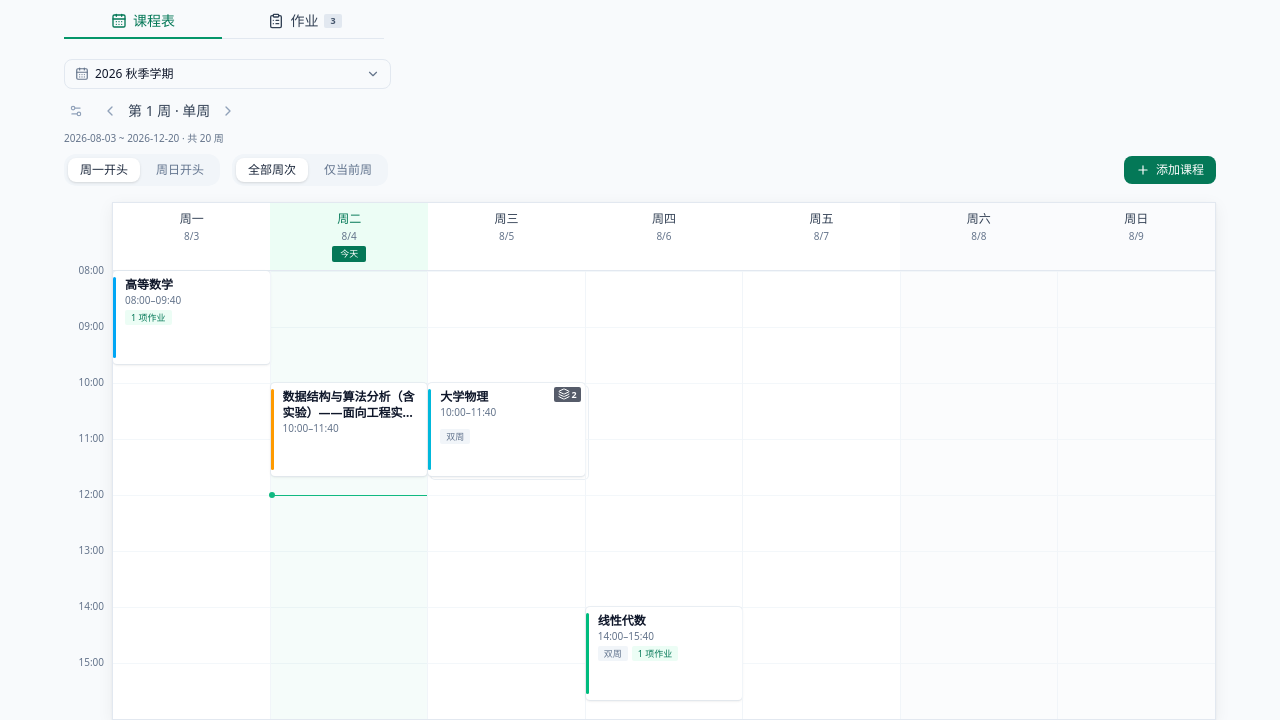
StudyPage › 删除课程后作业保留并变为无课程
The width and height of the screenshot is (1280, 720).
(page scrolled)
Click the button "线性代数 14:00–15:40 双周 1 项作业".
click(664, 653)  # box [586,606,742,700]
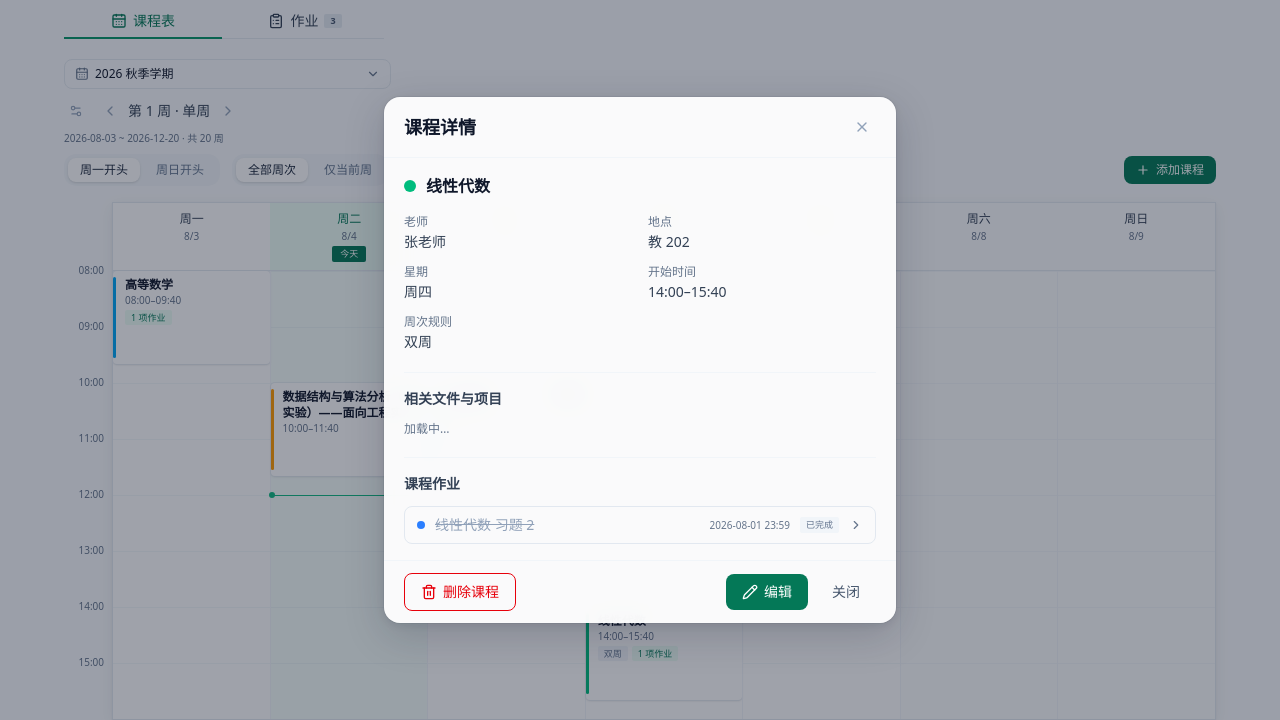
Click the button "删除课程".
click(460, 592)  # box [404,573,516,611]
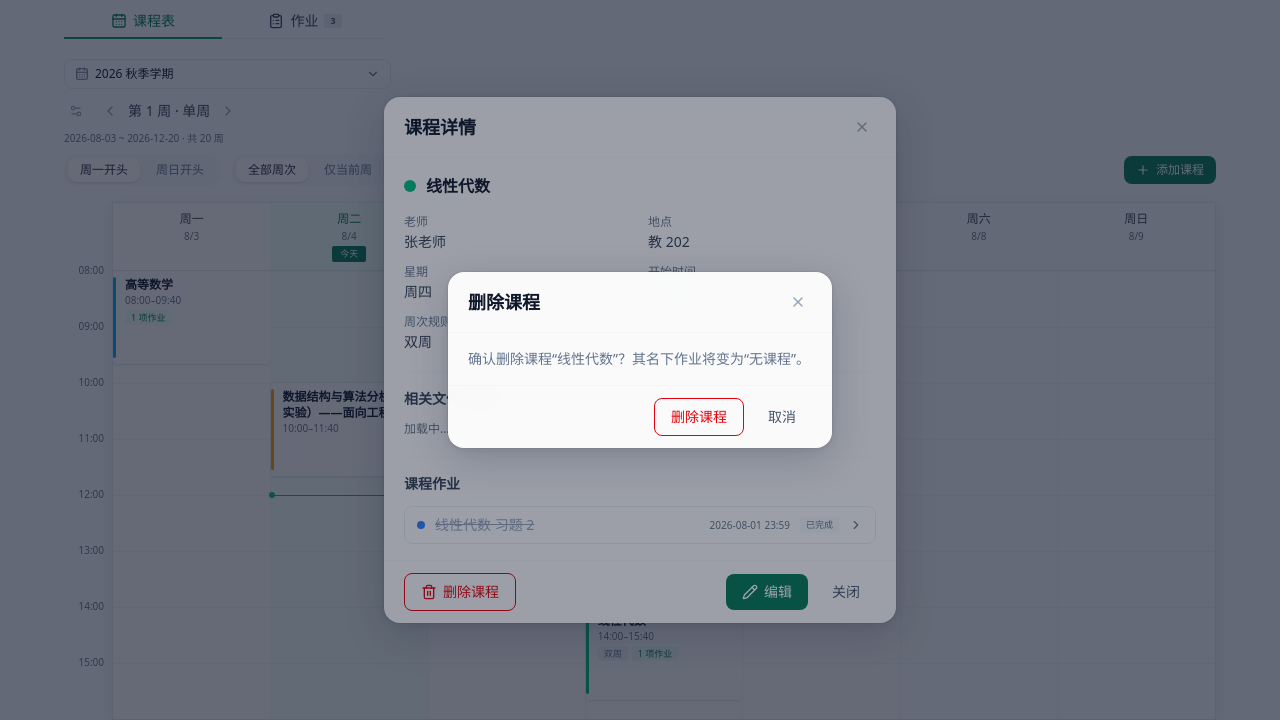
Click the button "删除课程".
click(699, 417)  # box [654,398,744,436]
(page scrolled)
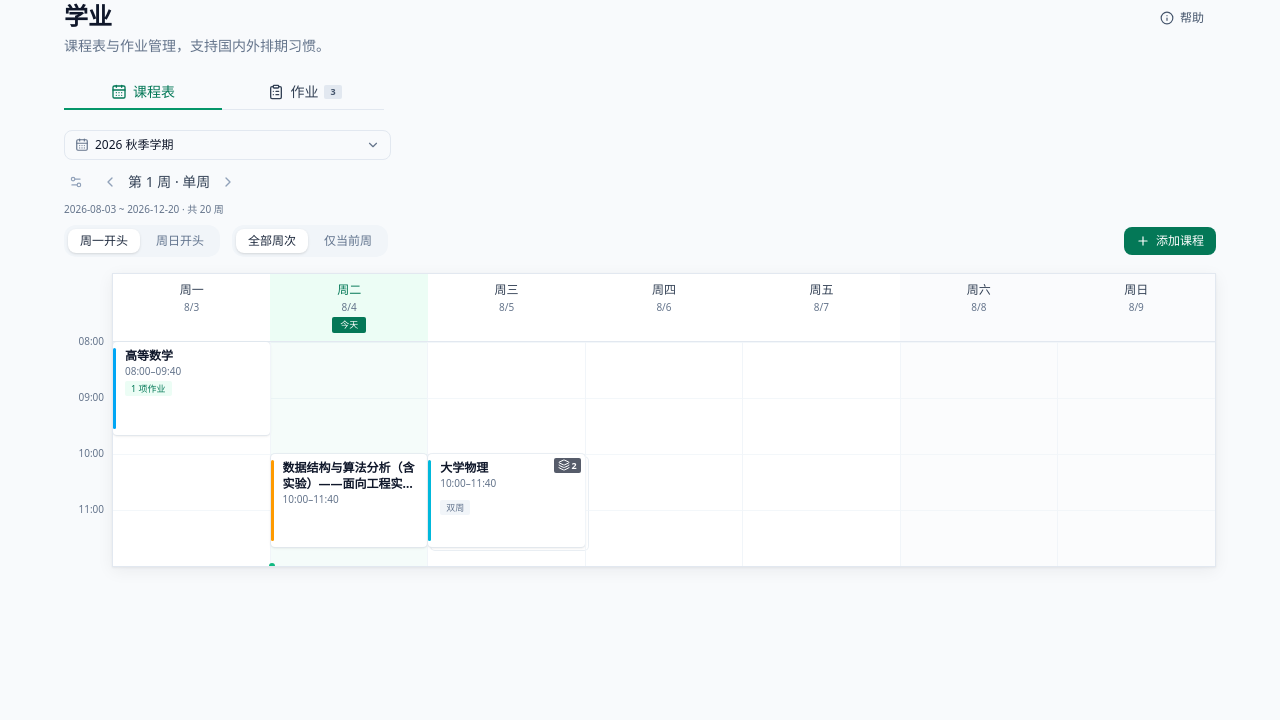
Click the button "作业 3".
click(305, 93)  # box [226,76,384,110]
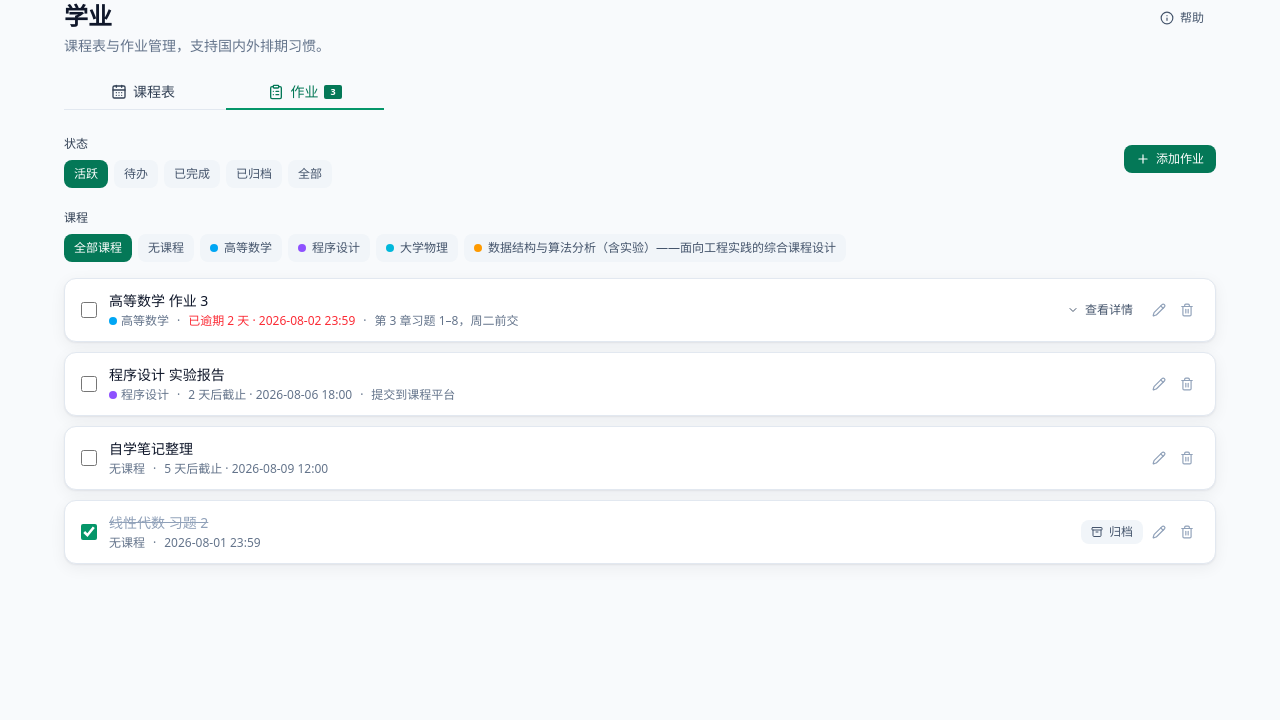
expect the text "线性代数 习题 2" is shown: met, box [109,513,208,532]
expect the 1st text "无课程" is shown: met, box [148,240,184,256]
